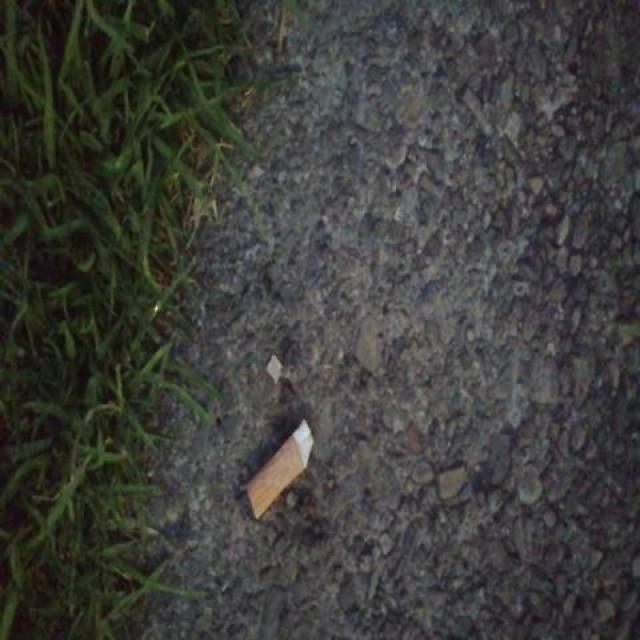non-organic waste: (238, 414, 318, 530)
